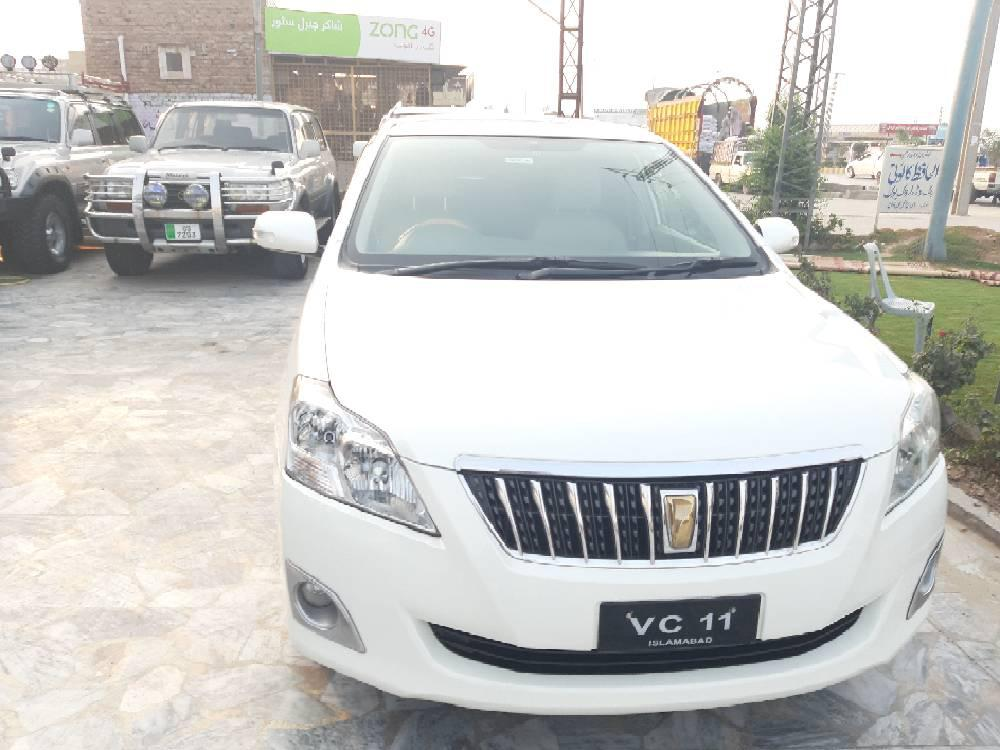license plate: (599, 602, 761, 652)
